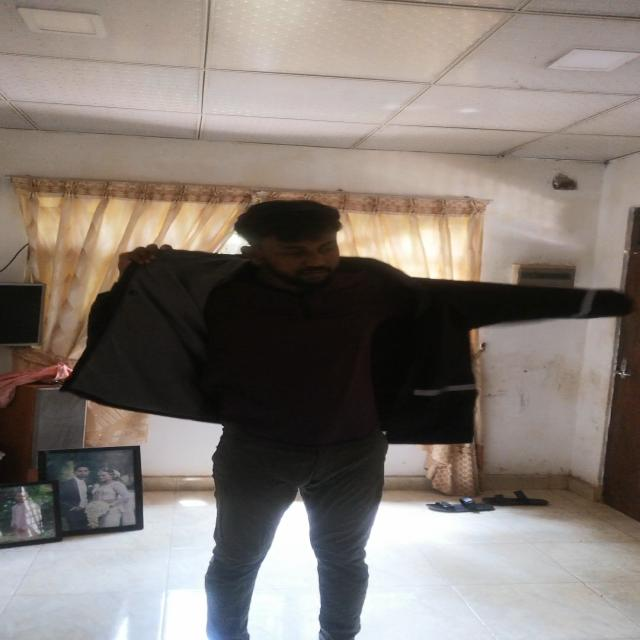Jacket_Wearer: (77, 238, 636, 472)
Person: (105, 186, 626, 640)
